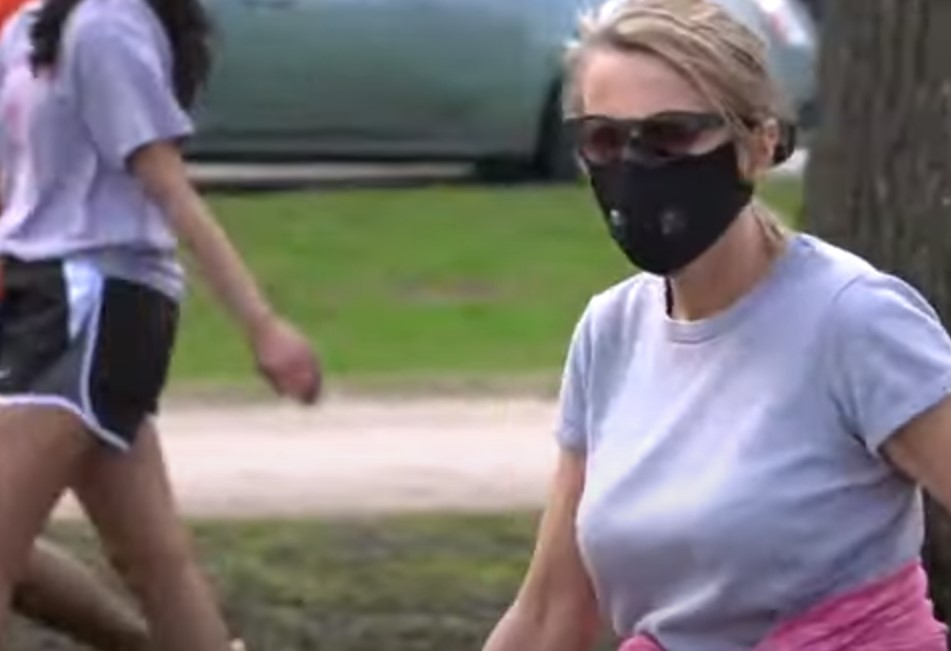face_with_mask: (556, 7, 784, 284)
